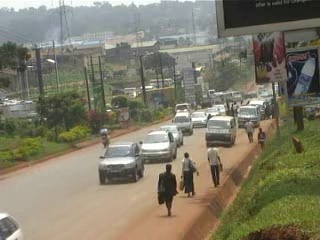Car: (97, 142, 146, 186), (138, 130, 178, 161), (0, 209, 31, 239), (157, 124, 186, 149), (189, 107, 207, 127), (205, 104, 219, 119), (214, 103, 227, 114)
Motorcycle: (99, 126, 112, 148)
